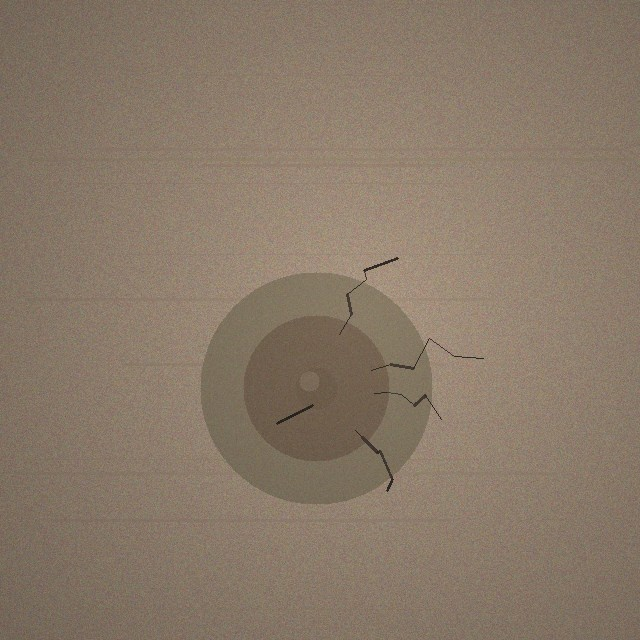crack: (200, 272, 432, 504)
